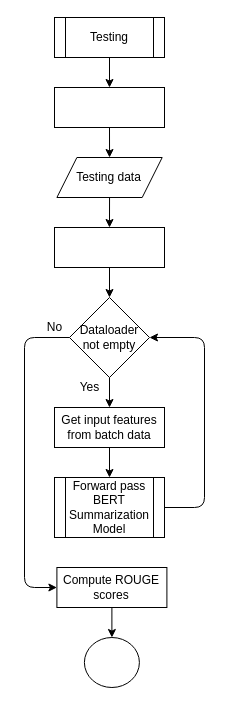
This 230x705 diagram has some shape labels left out. The shapes that lost their labels are listed below. From the top down, each one's centre as x and y in pixels, then its label:
At [109,107]: "Load Model Checkpoint".
At [109,247]: "Create dataloader".
At [111,662]: "End".
